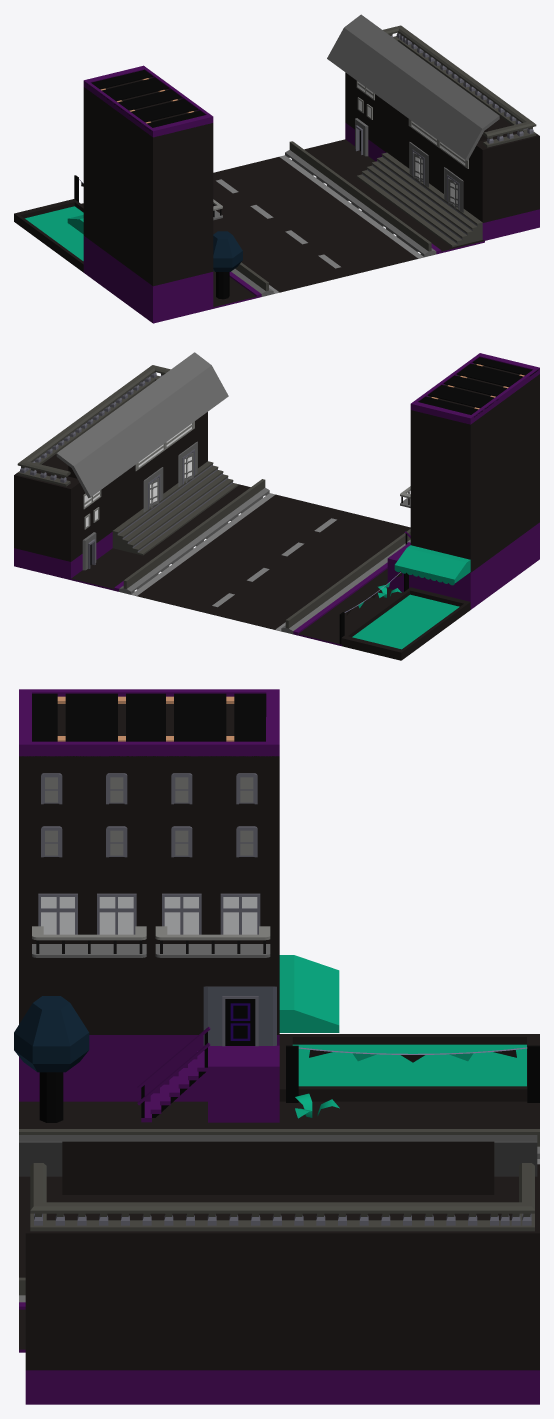
3 renders of one model, top to bottom at view 1: azimuth 30°, elevation 25°; view 2: azimuth 150°, elevation 25°; view 3: azimuth 270°, elevation 25°, orthographic. The views are drawn at different scales.
Parts seen in each view (by area): view 1: block (×2), roof_flatCenter (×2), roof_barnHalf, stairs, roof_flatEdge (×2), detail_roadBlockSmall (×5), platform_wood, corner (×3), roof_flatCorner (×4), doorway_revolving (×2), leafs_cone, barrier (+4 smaller); view 2: block (×2), roof_flatCenter (×2), roof_barnHalf, roof_flatEdge (×2), corner (×4), detail_roadBlockSmall (×7), stairs, platform_wood, roof_flatCorner (×4), awning, doorway_revolving (×2), block_half (+4 smaller); view 3: block (×2), roof_barnHalf, corner (×4), barrier (×7), roof_flatEdge, platform_wood, roof_flatCorner (×4), door_wide (×4), block_half, balcony_basic (×2), leafs_cone, awning (+7 smaller).
Part boxes in pixels (left/top/right/bottom): block (×2): left=83, top=72, right=539, bottom=323; roof_flatCenter (×2): left=213, top=155, right=423, bottom=293; roof_barnHalf: left=327, top=14, right=499, bottom=160; stairs: left=356, top=152, right=482, bottom=247; roof_flatEdge (×2): left=81, top=139, right=484, bottom=308; detail_roadBlockSmall (×5): left=231, top=141, right=436, bottom=296; platform_wood: left=87, top=70, right=205, bottom=130; corner (×3): left=14, top=199, right=83, bottom=272; roof_flatCorner (×4): left=83, top=65, right=213, bottom=137; doorway_revolving (×2): left=409, top=142, right=463, bottom=212; leafs_cone: left=213, top=231, right=242, bottom=271; barrier: left=483, top=125, right=517, bottom=147; block (×2): left=14, top=374, right=539, bottom=609; roof_flatCenter (×2): left=131, top=493, right=410, bottom=629; roof_barnHalf: left=56, top=352, right=228, bottom=498; roof_flatEdge (×2): left=70, top=484, right=403, bottom=646; corner (×4): left=341, top=587, right=470, bottom=660; detail_roadBlockSmall (×7): left=119, top=479, right=393, bottom=634; stairs: left=112, top=461, right=238, bottom=555; platform_wood: left=418, top=357, right=538, bottom=417; roof_flatCorner (×4): left=410, top=353, right=539, bottom=424; awning: left=394, top=545, right=470, bottom=585; doorway_revolving (×2): left=143, top=441, right=197, bottom=512; block_half: left=387, top=544, right=410, bottom=591; block (×2): left=19, top=756, right=539, bottom=1404; roof_barnHalf: left=19, top=1135, right=537, bottom=1194; corner (×4): left=279, top=1034, right=539, bottom=1101; barrier (×7): left=71, top=1202, right=526, bottom=1231; roof_flatEdge: left=19, top=1101, right=539, bottom=1128; platform_wood: left=32, top=693, right=266, bottom=741; roof_flatCorner (×4): left=19, top=689, right=279, bottom=756; door_wide (×4): left=38, top=893, right=260, bottom=934; block_half: left=208, top=1045, right=279, bottom=1122; balcony_basic (×2): left=32, top=926, right=270, bottom=957; leafs_cone: left=14, top=996, right=89, bottom=1072; awning: left=279, top=955, right=339, bottom=1032.
Bounding box in the file's own units: 129 × 61 × 80.77.
